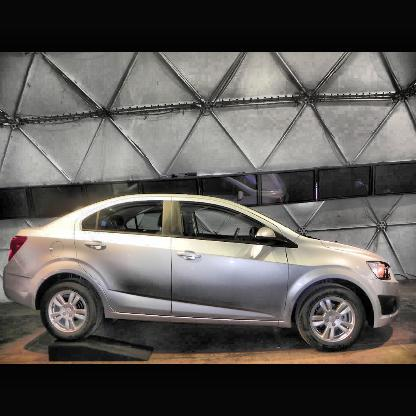Chevrolet Sonic Sedan 2012: (3, 193, 399, 353)
